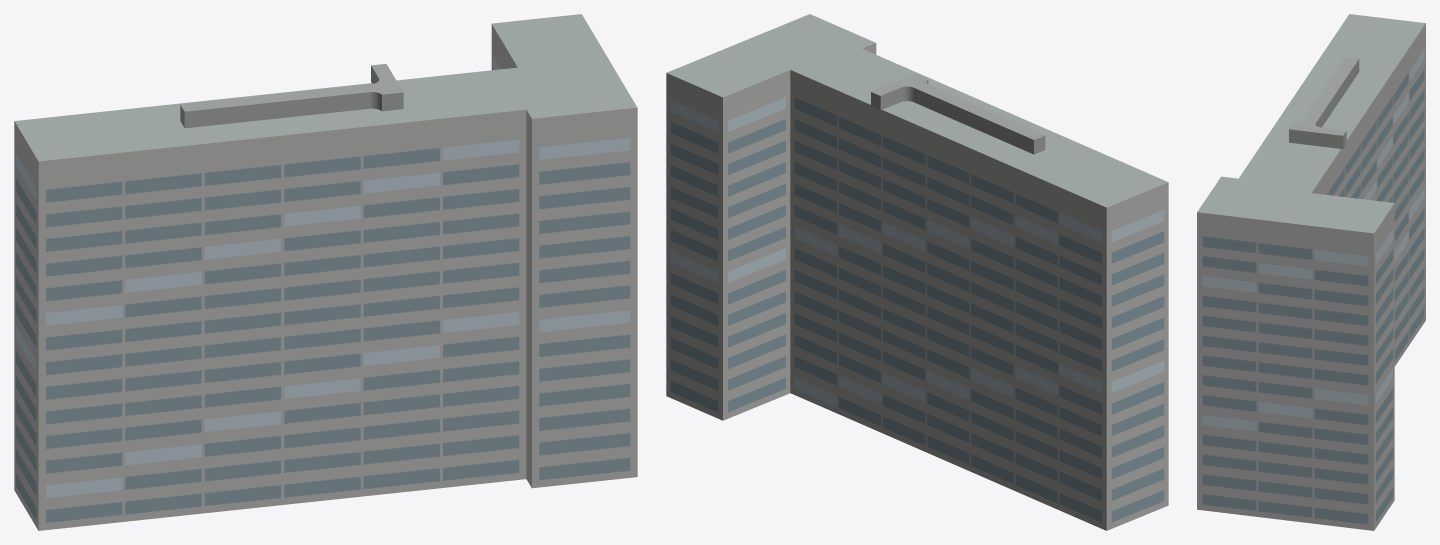
File: fallback-olympic-park-foreon-202.glb
The picture shows the model from 3 angles, left to right: view 1: azimuth 30°, elevation 25°; view 2: azimuth 150°, elevation 25°; view 3: azimuth 270°, elevation 25°; orthographic projection. The views are drawn at different scales.
Visible parts, largest first — view 1: fallback-olympic-park-foreon-202; view 2: fallback-olympic-park-foreon-202; view 3: fallback-olympic-park-foreon-202.
Boxes of the visible parts, x1=… form: fallback-olympic-park-foreon-202: x1=14, y1=14, x2=637, y2=530; fallback-olympic-park-foreon-202: x1=666, y1=14, x2=1168, y2=530; fallback-olympic-park-foreon-202: x1=1197, y1=14, x2=1425, y2=530.
Bounding box in the file's own units: 72.39 × 47.81 × 31.87.
